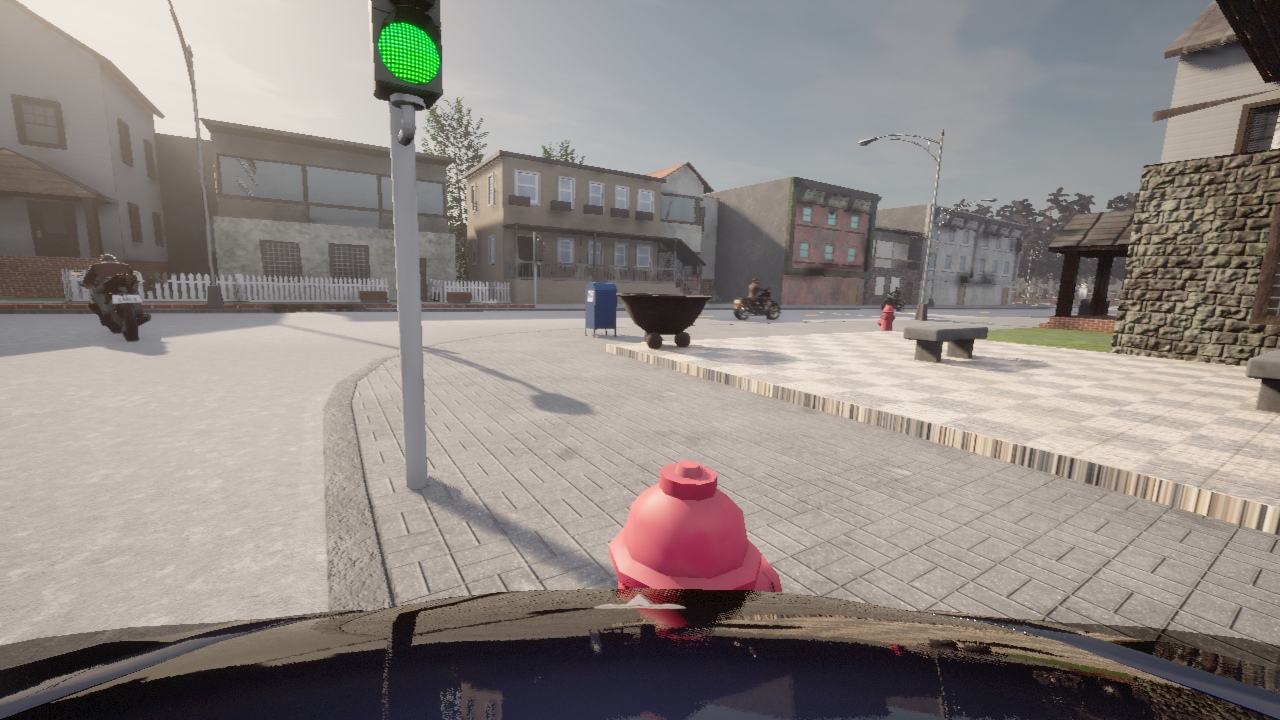cyclist: (0, 588, 1279, 719), (71, 271, 150, 340), (733, 290, 780, 319), (881, 291, 904, 310)
